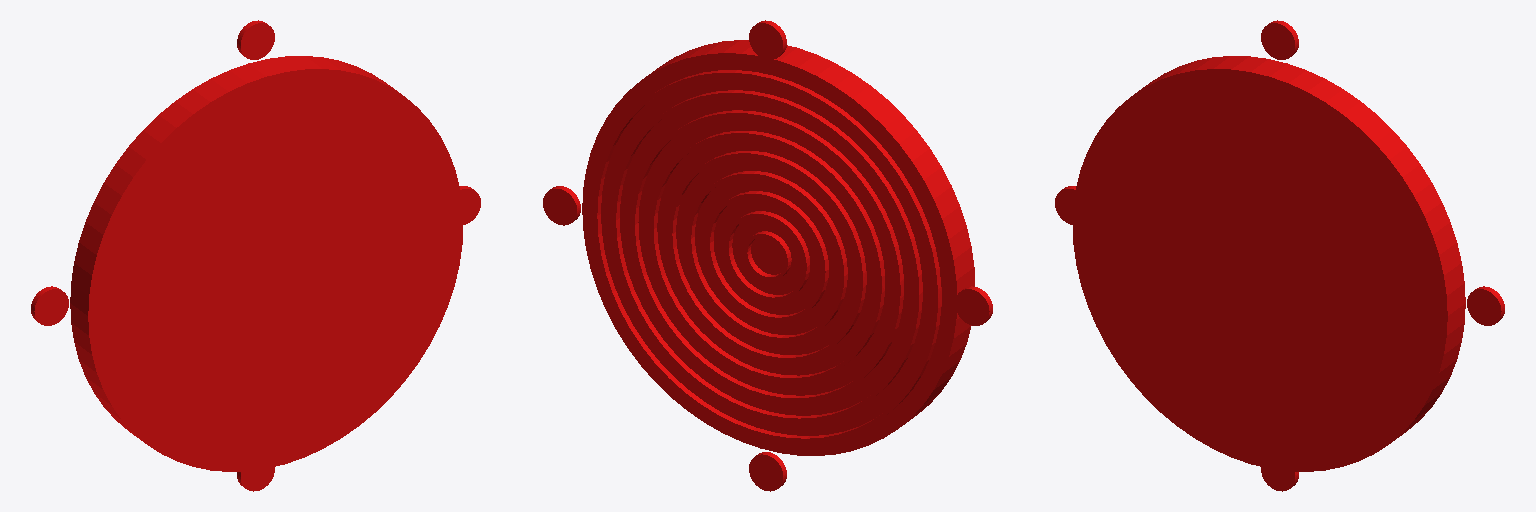
URDF robot description (laser_receiver.SLDPRT):
<?xml version="1.0" encoding="utf-8"?>
<!-- This URDF was automatically created by SolidWorks to URDF Exporter! Originally created by [author] ([email redacted]) 
     Commit Version: 1.5.1-0-g916b5db  Build Version: 1.5.7152.31018
     For more information, please see http://wiki.ros.org/sw_urdf_exporter -->
<robot
  name="laser_receiver.SLDPRT">
  <link
    name="laser_receiver.SLDPRT">
    <inertial>
      <origin
        xyz="2.237E-16 -0.023922 -7.78955248340193E-16"
        rpy="0 0 0" />
      <mass
        value="14.664" />
      <inertia
        ixx="0.3356"
        ixy="-9.8612E-17"
        ixz="3.38559999999994E-19"
        iyy="0.66438"
        iyz="-3.51041303850486E-16"
        izz="0.3356" />
    </inertial>
    <visual>
      <origin
        xyz="0 0 0"
        rpy="1.5707963267949 0 0" />
      <geometry>
        <mesh
          filename="package://my_gazebo_world/meshes/laser_receiver.SLDPRT.STL" />
      </geometry>
      <material
        name="">
        <color
          rgba="0.9 0.1 0.1 1" />
        <texture
          filename="package://my_gazebo_world/textures/" />
      </material>
    </visual>
    <collision>
      <origin
        xyz="0 0 0"
        rpy="1.5707963267949 0 0" />
      <geometry>
        <mesh
          filename="package://my_gazebo_world/meshes/laser_receiver.SLDPRT.STL" />
      </geometry>
    </collision>
  </link>
</robot>

--- What the picture shows (computed from the rendered views, not written in the file) ---
The picture shows the robot from 3 angles, left to right: view 1: azimuth 30°, elevation 25°; view 2: azimuth 150°, elevation 25°; view 3: azimuth 330°, elevation 25°; orthographic projection.
Model laser_receiver.SLDPRT with 1 links and 0 joints (none), rooted at laser_receiver.SLDPRT, posed all joints at 0.
Links seen in each view (by area): view 1: laser_receiver.SLDPRT; view 2: laser_receiver.SLDPRT; view 3: laser_receiver.SLDPRT.
Boxes of the visible links, x1,y1,x2,y2 form: laser_receiver.SLDPRT: (31, 20, 480, 491); laser_receiver.SLDPRT: (543, 20, 992, 491); laser_receiver.SLDPRT: (1055, 20, 1504, 491).
Size in the robot's own frame: 0.7142 by 0.06 by 0.7141 metres.
Meshes: 1 distinct files referenced, 1 mesh visuals loaded (1 binary STL).